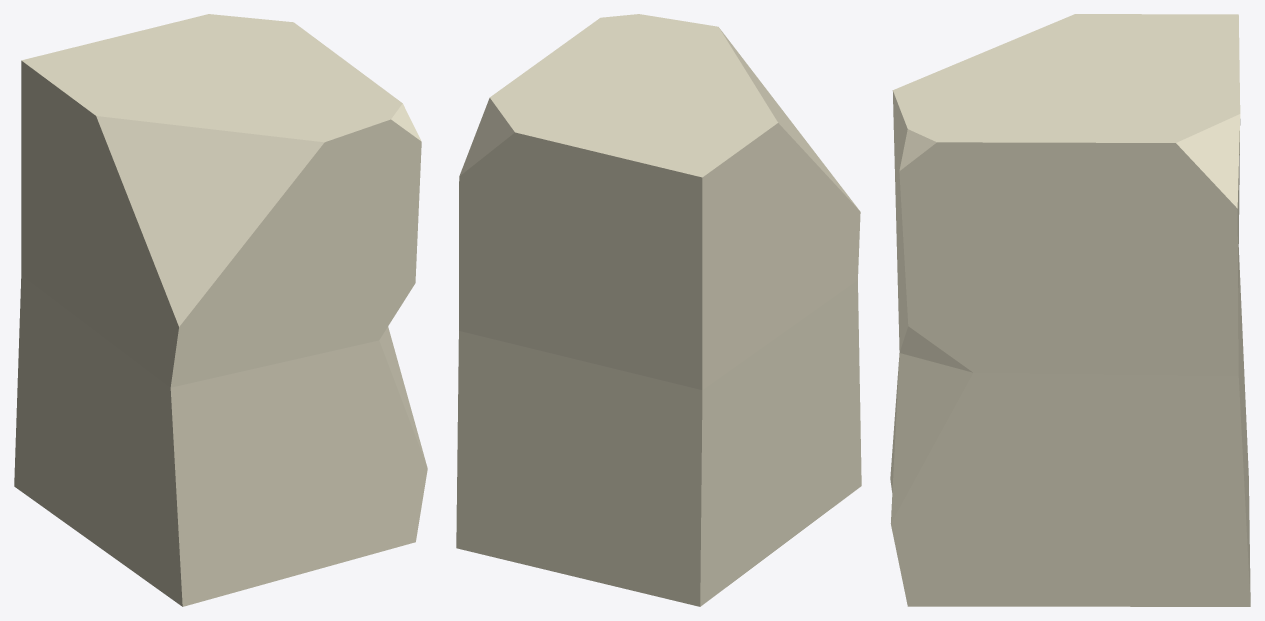
File: Ruin_4.fbx
3 renders of one model, left to right at view 1: azimuth 30°, elevation 25°; view 2: azimuth 150°, elevation 25°; view 3: azimuth 270°, elevation 25°, orthographic. The views are drawn at different scales.
Parts seen in each view (by area): view 1: Ruin.003; view 2: Ruin.003; view 3: Ruin.003.
Part boxes in pixels (bbox=[...]): Ruin.003: bbox=[14, 14, 427, 606]; Ruin.003: bbox=[456, 14, 861, 606]; Ruin.003: bbox=[890, 14, 1250, 606].
Bounding box in the file's own units: 74.29 × 122 × 85.83.
